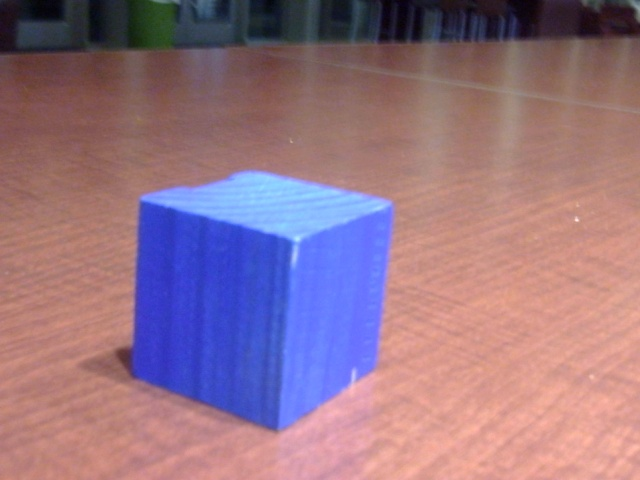BlueBlock: (136, 172, 393, 429)
